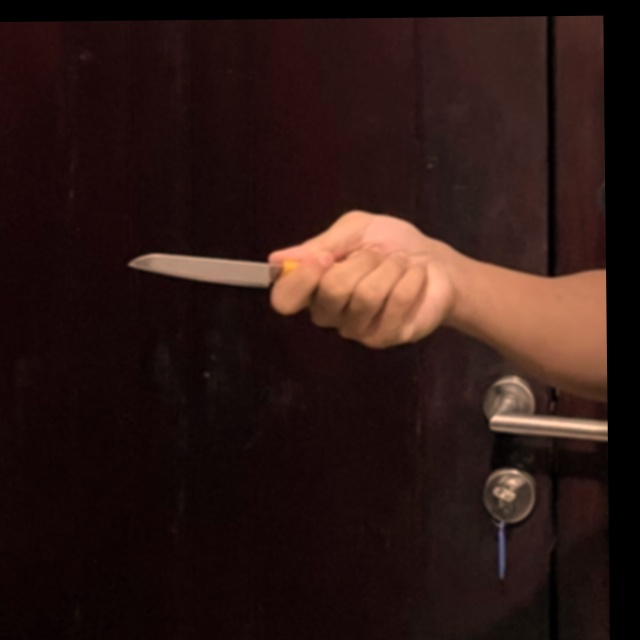Sharp-Object: (126, 249, 345, 295)
